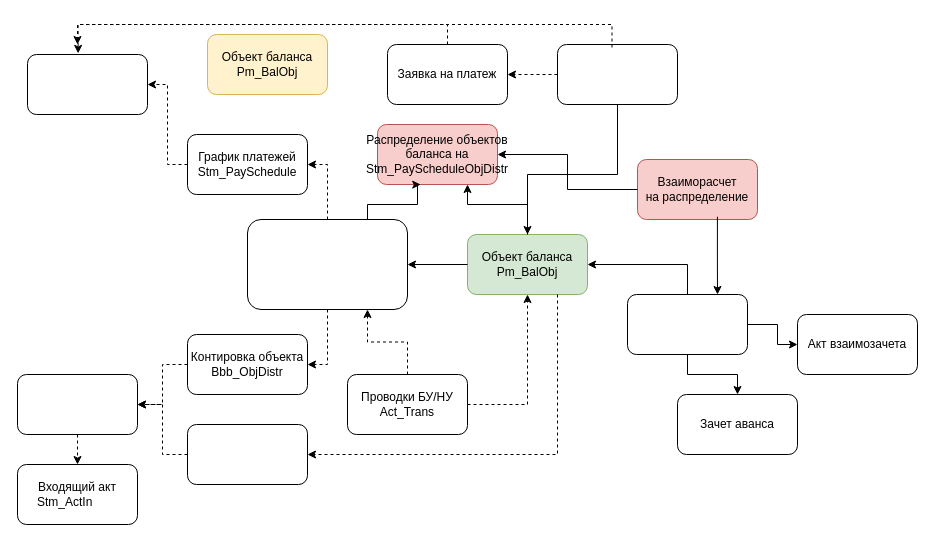
This 935x542 diagram has some shape labels left out. The shapes that lost their labels are listed below. From the top down, each one's centre as x and y in pixels, then its label:
At (87,84): "ДПП Pm_ExpectedPay".
At (617,74): "Исходяший ПП".
At (327,264): "Распределение графика платежей по контировке объекта Stm_PayScheduleObjDistr".
At (687,324): "Взаиморасчет Pm_PayMove".
At (77,404): "Позиция акта Stm_ActInDet".
At (247,454): "Детализация позиции акта Stm_ActInDetItem".
